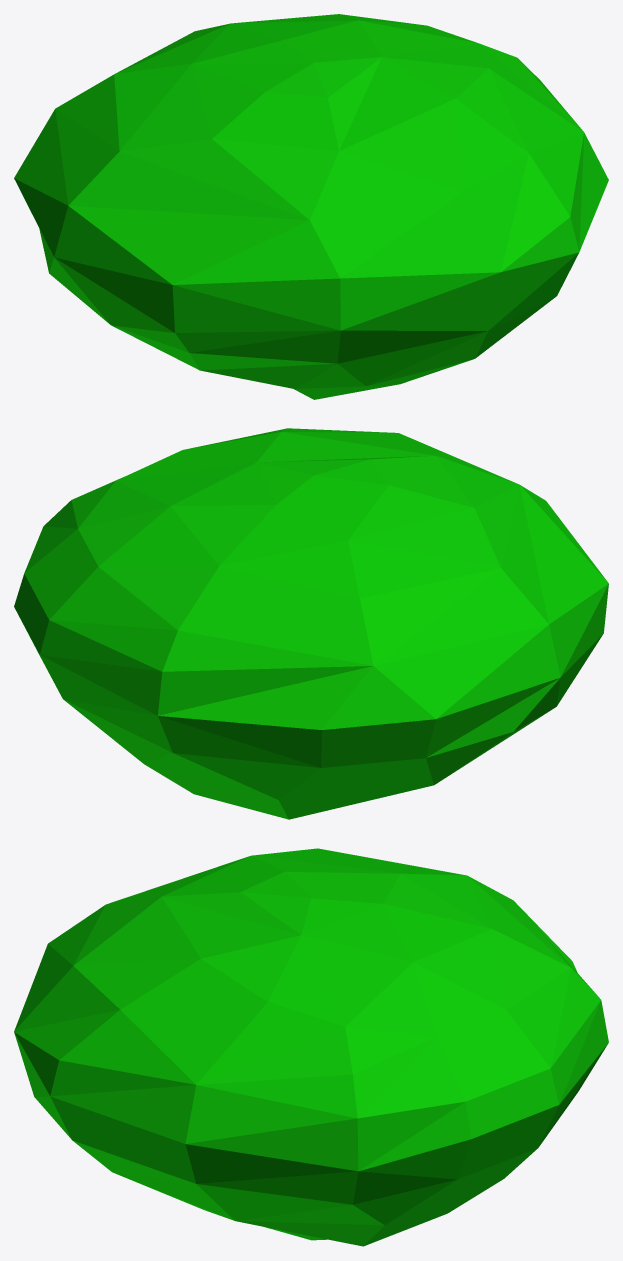
Rendered from Green Gem.obj.
The picture shows the model from 3 angles, top to bottom: view 1: azimuth 30°, elevation 25°; view 2: azimuth 150°, elevation 25°; view 3: azimuth 270°, elevation 25°; orthographic projection. The views are drawn at different scales.
Parts seen in each view (by area): view 1: GreenGem; view 2: GreenGem; view 3: GreenGem.
Boxes of the visible parts, box(x1,y1,x2,y2) form: GreenGem: box(14, 14, 608, 399); GreenGem: box(14, 428, 608, 819); GreenGem: box(14, 848, 608, 1246).
Size of the model in its own units: 6.88 by 4.37 by 6.88.
Materials: 1 (1 with a texture image).
